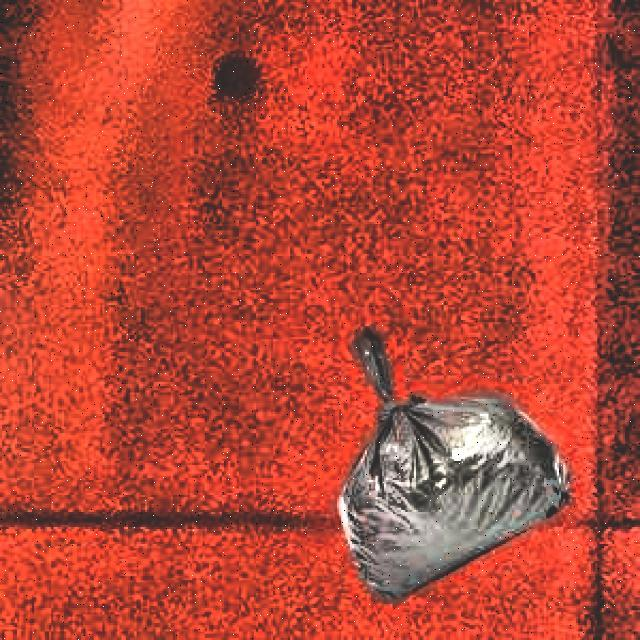Trashbag: (333, 324, 573, 611)
